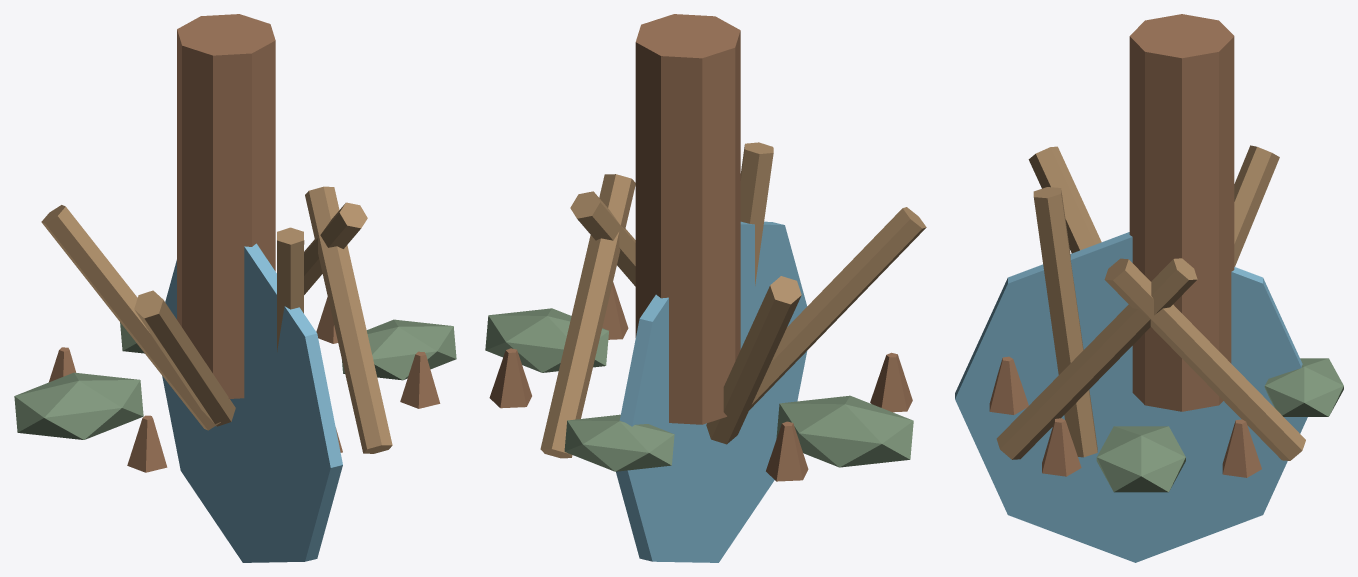
The model's file is mangrove_roots.glb.
The picture shows the model from 3 angles, left to right: view 1: azimuth 30°, elevation 25°; view 2: azimuth 150°, elevation 25°; view 3: azimuth 270°, elevation 25°; orthographic projection. The views are drawn at different scales.
Parts seen in each view (by area): view 1: trunk, pool, root_2, mud_0, root_1, root_0, mud_1, root_4, root_3, fork_0, fork_2, fork_3 (+1 smaller); view 2: trunk, pool, root_3, mud_0, root_0, root_1, mud_2, mud_1, root_4, root_2, fork_1, fork_3 (+2 smaller); view 3: pool, trunk, root_3, root_2, root_4, mud_1, mud_2, root_0, root_1, fork_3, fork_2, fork_4.
Boxes of the visible parts, box(x1,y1,x2,y2) form: trunk: box(177, 14, 275, 398); pool: box(162, 243, 342, 562); root_2: box(305, 186, 392, 453); mud_0: box(14, 372, 143, 439); root_1: box(41, 205, 220, 430); root_0: box(134, 290, 235, 426); mud_1: box(342, 319, 456, 380); root_4: box(277, 227, 304, 351); root_3: box(304, 202, 367, 294); fork_0: box(127, 415, 167, 472); fork_2: box(400, 351, 440, 408); fork_3: box(316, 297, 337, 343); trunk: box(635, 14, 740, 424); pool: box(616, 221, 807, 562); root_3: box(540, 174, 635, 458); mud_0: box(776, 395, 913, 467); root_0: box(749, 207, 926, 410); root_1: box(706, 276, 801, 444); mud_2: box(564, 414, 674, 471); mud_1: box(485, 308, 608, 372); root_4: box(740, 142, 773, 285); root_2: box(570, 191, 635, 286); fork_1: box(766, 421, 808, 481); fork_3: box(489, 348, 531, 408); pool: box(955, 232, 1307, 562); trunk: box(1129, 14, 1234, 411); root_3: box(1104, 258, 1305, 460); root_2: box(996, 258, 1197, 459); root_4: box(1033, 187, 1097, 457); mud_1: box(1096, 426, 1185, 492); mud_2: box(1264, 358, 1343, 416); root_0: box(1028, 146, 1101, 253); root_1: box(1234, 145, 1279, 266); fork_3: box(1222, 419, 1261, 477); fork_2: box(1042, 418, 1081, 476); fork_4: box(989, 356, 1028, 414).
Size of the model in its own units: 1.7 by 1.99 by 1.34.
